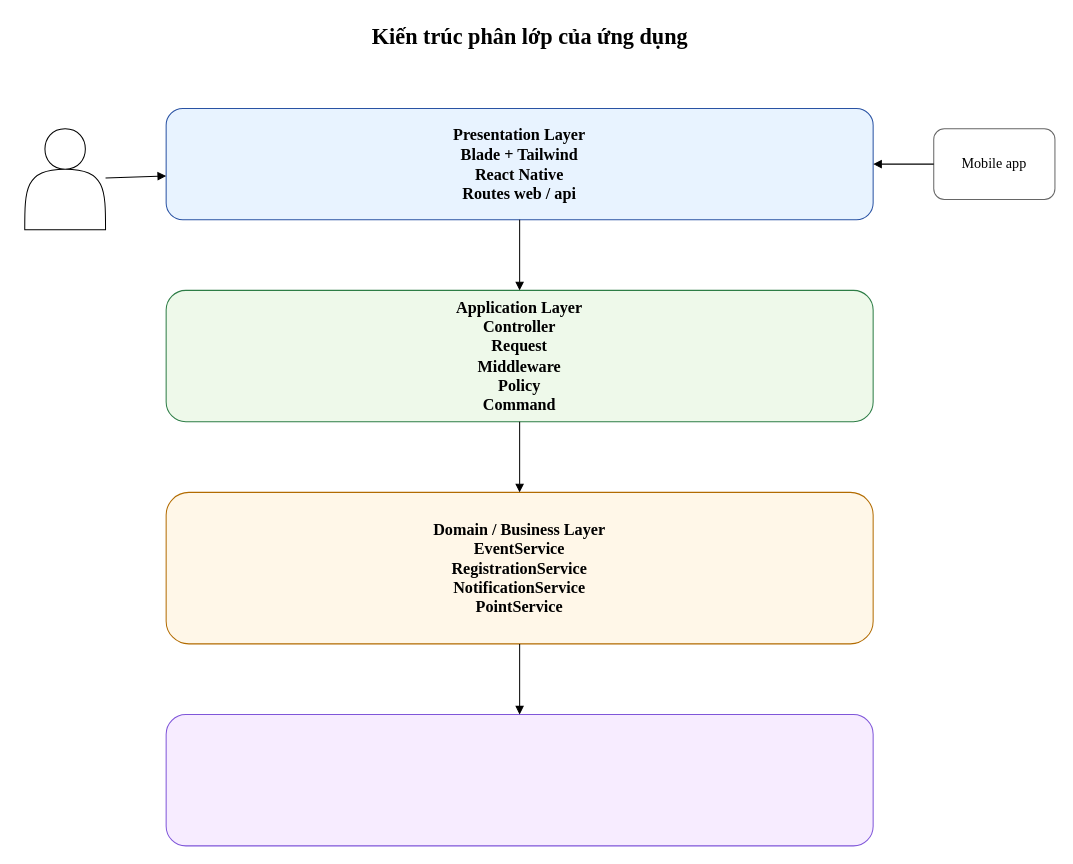
Image size: 1073x864. Some labels were removed from this diagram. The box of each missing label's shape, as (x1, y1, x2, y2) in pixels:
Data Layer Eloquent Model MySQL Migration / Seeder Storage public: (165, 714, 873, 846)
Người dùng web: (24, 128, 106, 230)
